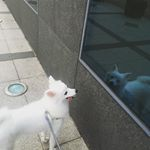puppy: (1, 74, 80, 150)
